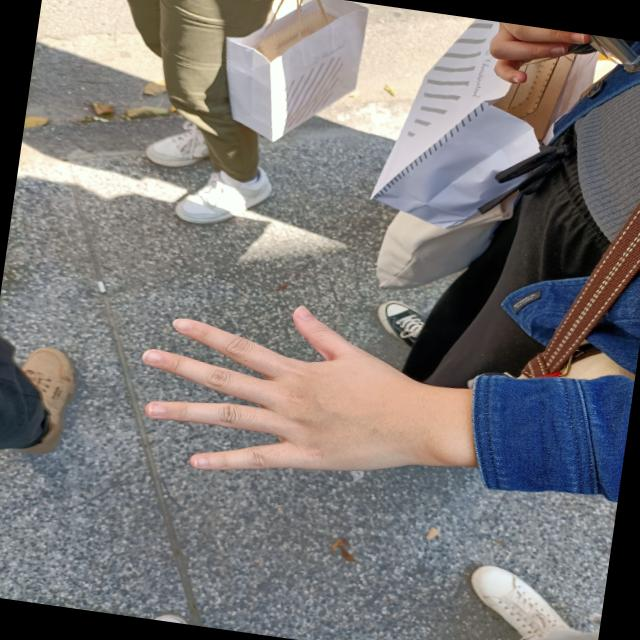Nail: (142, 350, 163, 364), (296, 306, 314, 321), (172, 319, 193, 331), (149, 404, 165, 416), (549, 45, 566, 56), (195, 457, 209, 467), (572, 33, 584, 43), (513, 77, 522, 84)
